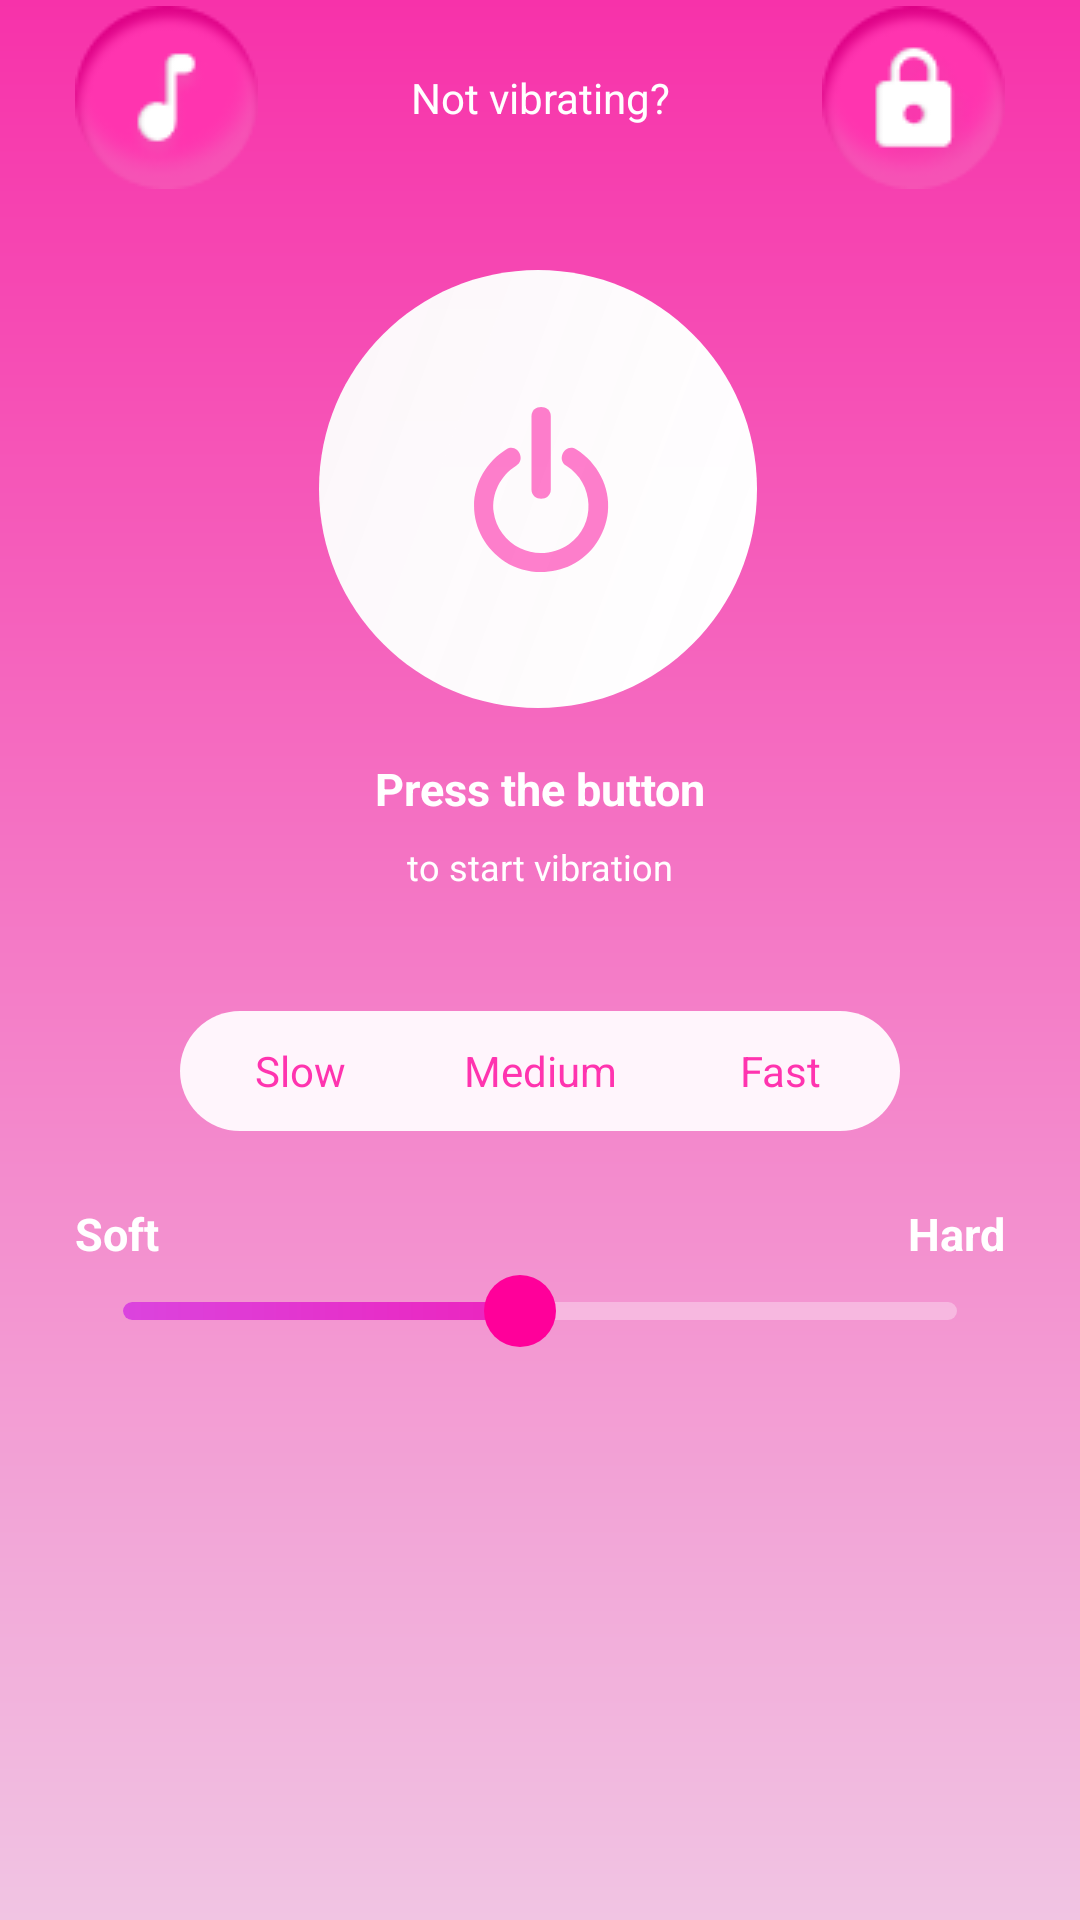

Icon click points for this 1080x1920 phone screenshot, format point (x, y):
music: point (163, 97)
unlock: point (910, 97)
